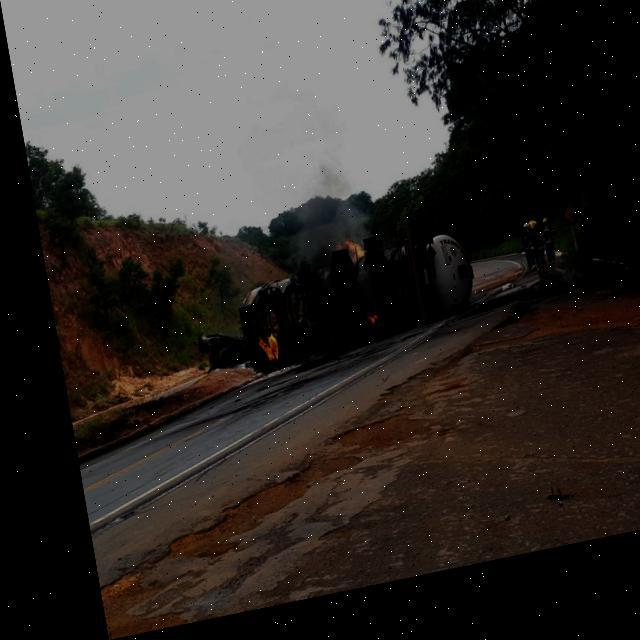Fire: (244, 339, 268, 374), (352, 324, 366, 338)
